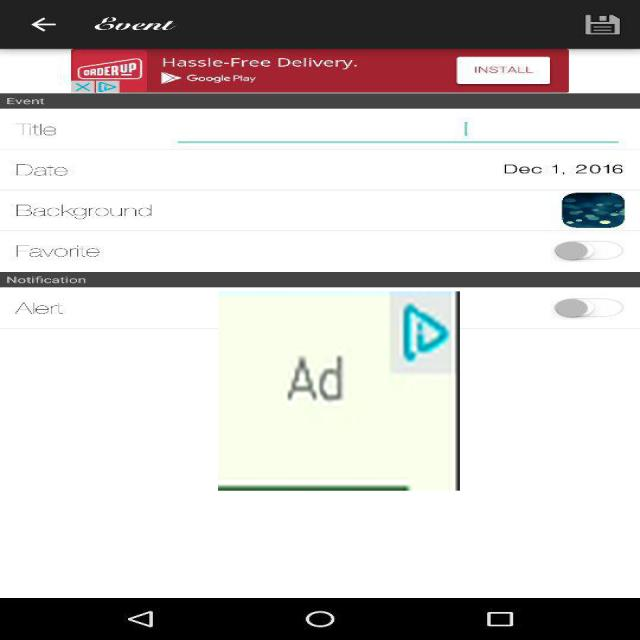sneaking: (218, 291, 460, 491)
